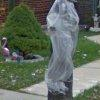Statue: (33, 4, 88, 100)
